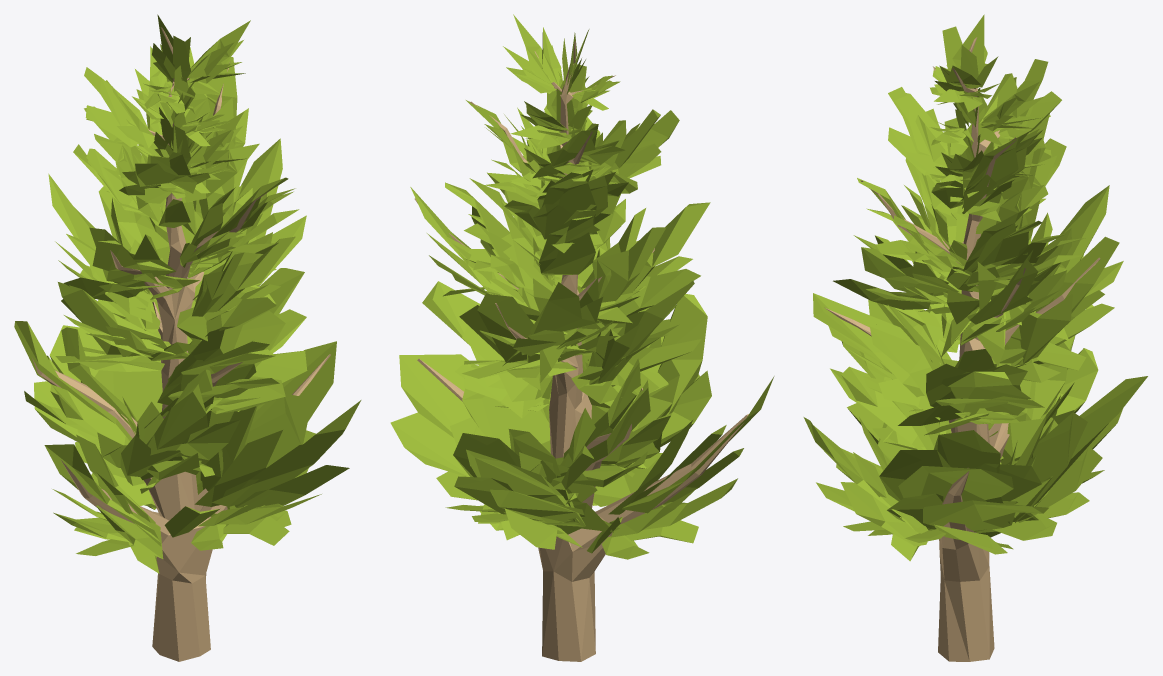
The model's file is Tulip01.fbx.
3 renders of one model, left to right at view 1: azimuth 30°, elevation 25°; view 2: azimuth 150°, elevation 25°; view 3: azimuth 270°, elevation 25°, orthographic.
Parts seen in each view (by area): view 1: leaves.001, trunk.001; view 2: leaves.001, trunk.001; view 3: leaves.001, trunk.001.
Boxes of the visible parts, x1,y1,x2,y2 form: leaves.001: [14, 14, 361, 573]; trunk.001: [32, 27, 330, 661]; leaves.001: [390, 14, 774, 559]; trunk.001: [414, 41, 748, 661]; leaves.001: [803, 14, 1147, 561]; trunk.001: [824, 37, 1100, 661].
Bounding box in the file's own units: 432 × 817 × 405.
